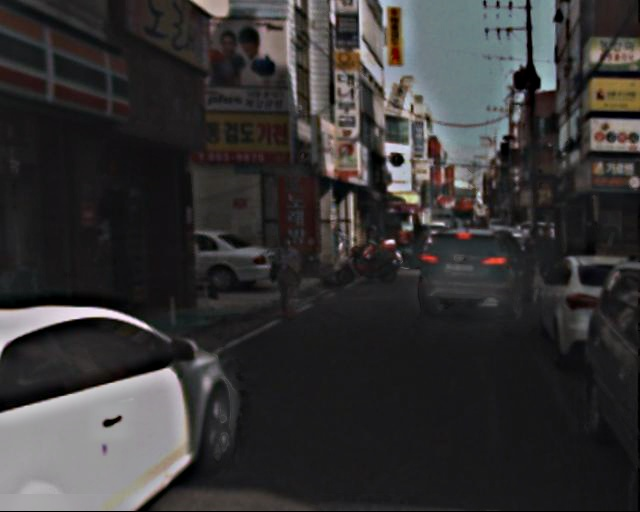person: (273, 233, 308, 319), (535, 226, 567, 304)
